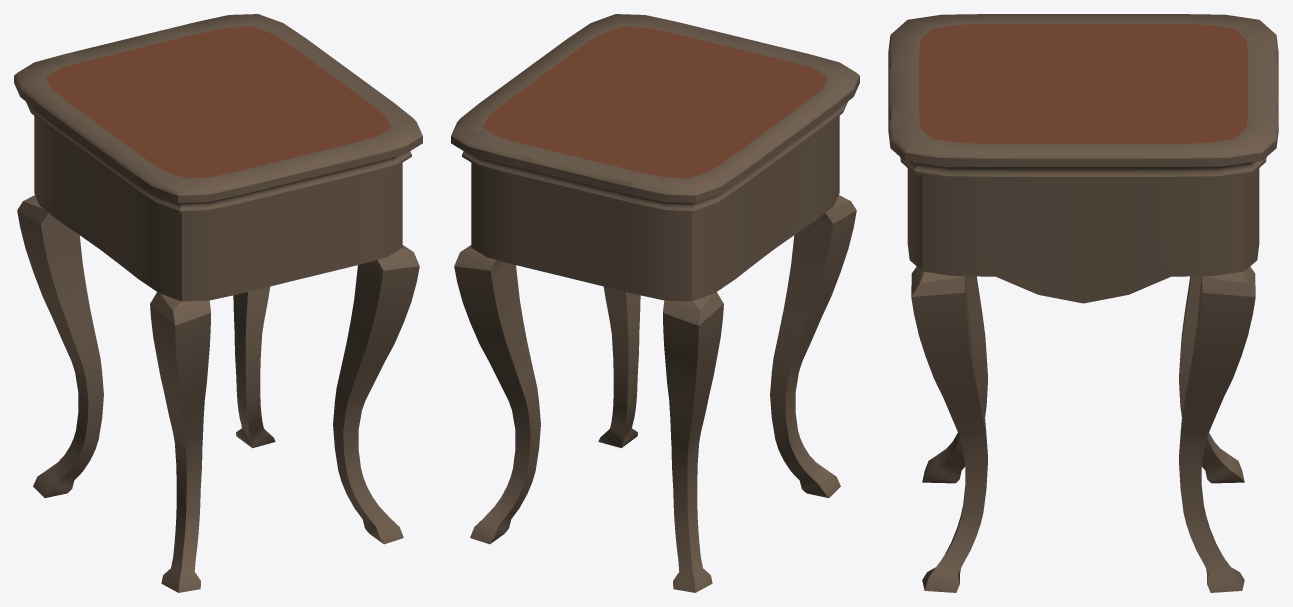
The model's file is BedSideTable.fbx.
3 renders of one model, left to right at view 1: azimuth 30°, elevation 25°; view 2: azimuth 150°, elevation 25°; view 3: azimuth 270°, elevation 25°, orthographic. The views are drawn at different scales.
Parts seen in each view (by area): view 1: Plane.012; view 2: Plane.012; view 3: Plane.012.
Boxes of the visible parts, x1,y1,x2,y2 form: Plane.012: [14, 14, 422, 592]; Plane.012: [451, 14, 859, 592]; Plane.012: [888, 14, 1278, 592].
Bounding box in the file's own units: 28.89 × 42.55 × 33.53.
